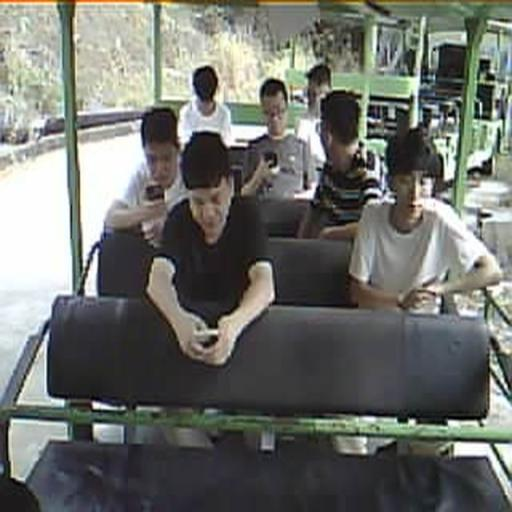persona: (143, 129, 277, 367), (347, 128, 501, 316), (299, 89, 384, 242), (102, 105, 188, 247), (240, 77, 314, 200), (176, 64, 234, 146), (295, 63, 334, 176)
